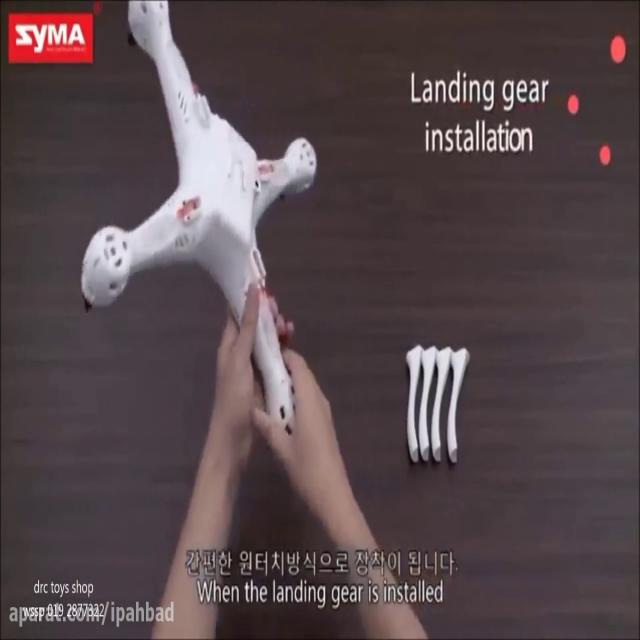drone: (78, 1, 318, 436)
